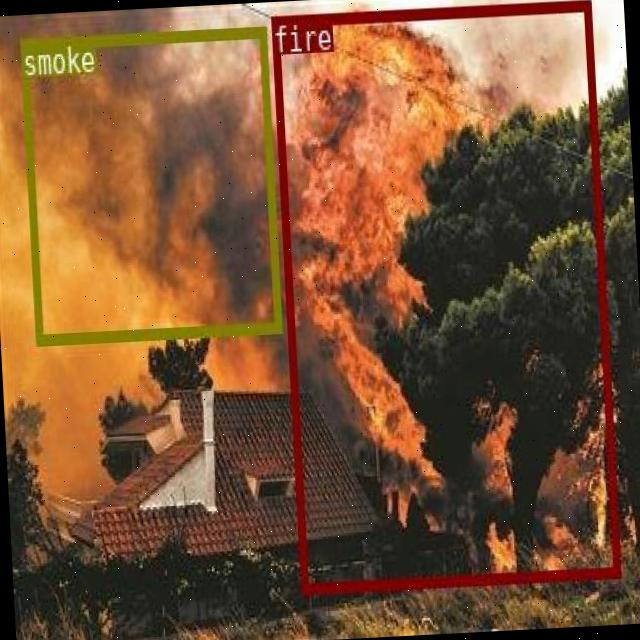fire: (271, 0, 620, 591)
smoke: (18, 26, 280, 342)
